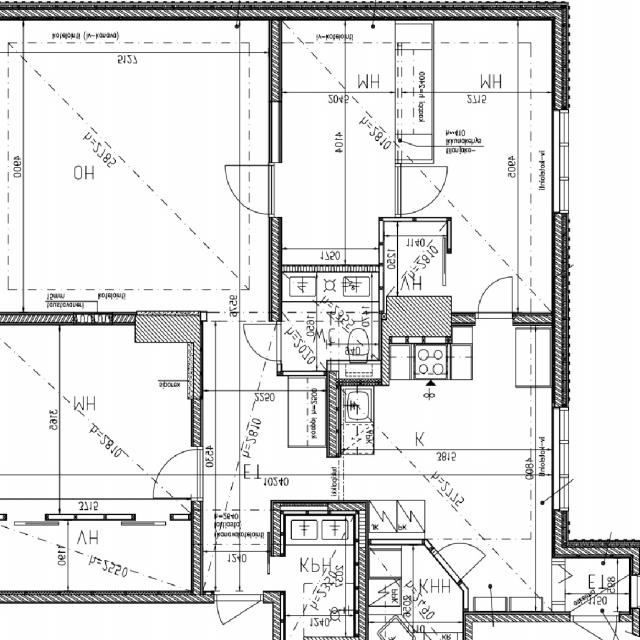door: (434, 527, 486, 584), (146, 449, 203, 498), (224, 166, 274, 214), (396, 166, 446, 214), (217, 591, 260, 640), (478, 275, 513, 325), (243, 324, 282, 361), (574, 611, 617, 640)
